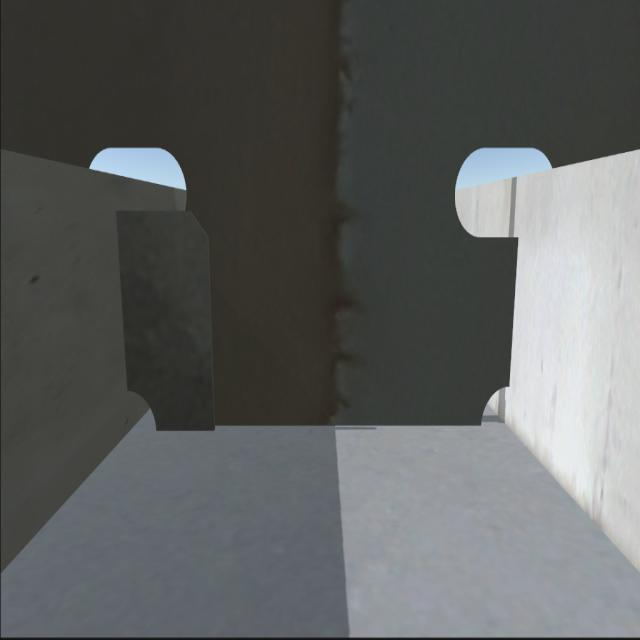fillet_hole: (126, 389, 160, 434), (476, 382, 511, 424)
fillet_yong_jeop_jang: (159, 425, 481, 432)
longi_yong_jeop_jang: (113, 212, 136, 386), (502, 230, 524, 386)
plate_CP03: (118, 211, 223, 431)
